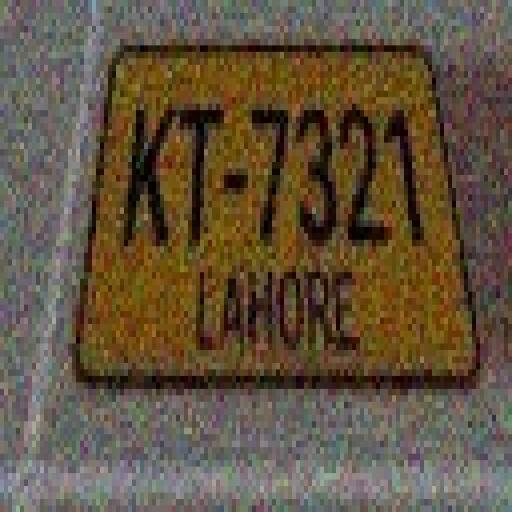1: (386, 87, 430, 255)
2: (339, 106, 390, 252)
3: (292, 112, 330, 248)
7: (247, 103, 288, 242)
K: (126, 99, 169, 254)
T: (178, 96, 224, 250)
